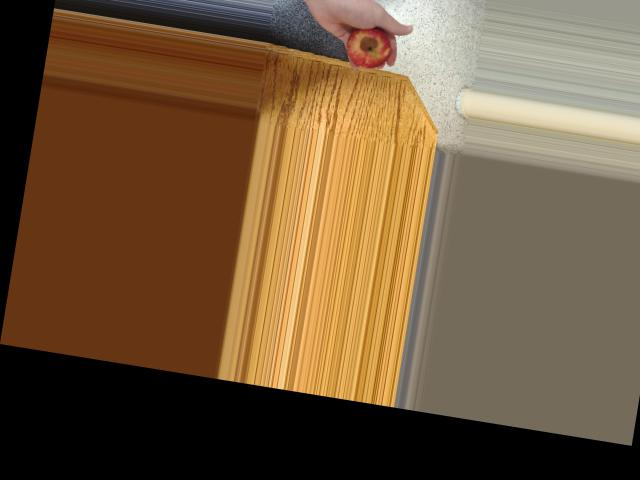apple: (335, 19, 397, 71)
